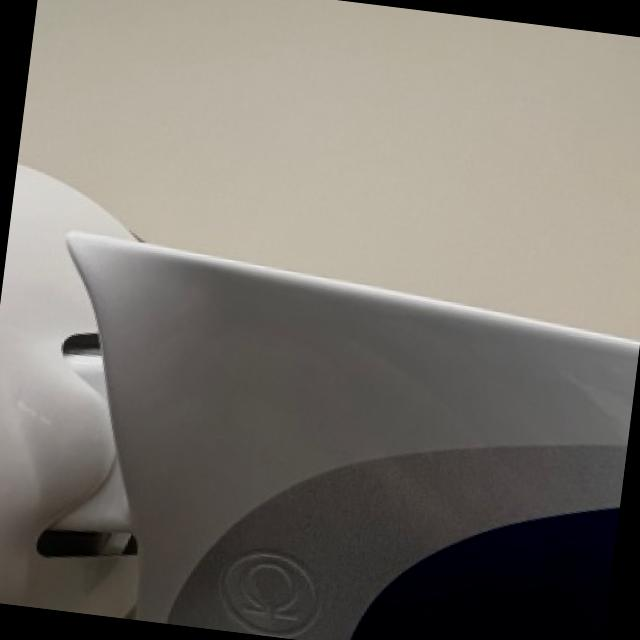healthy: (0, 165, 640, 640)
